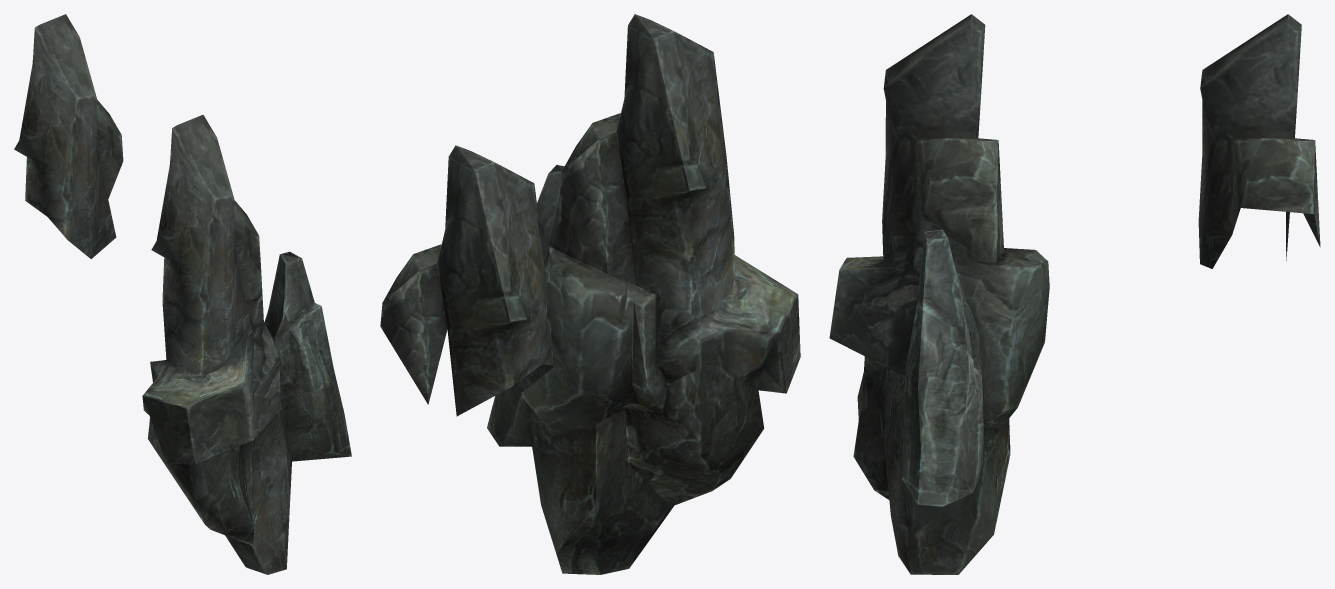
The model's file is deco_stone01.FBX.
3 views of the same model, side by side, from view 1: azimuth 30°, elevation 25°; view 2: azimuth 150°, elevation 25°; view 3: azimuth 270°, elevation 25° (orthographic). The views are drawn at different scales.
Parts seen in each view (by area): view 1: f_106_thing_04, f_106_thing_05; view 2: f_106_thing_04, f_106_thing_05; view 3: f_106_thing_04, f_106_thing_05.
Boxes of the visible parts, <box> form: f_106_thing_04: <box>142,114,351,574</box>; f_106_thing_05: <box>14,14,123,258</box>; f_106_thing_04: <box>487,14,800,574</box>; f_106_thing_05: <box>380,145,554,416</box>; f_106_thing_04: <box>829,14,1049,574</box>; f_106_thing_05: <box>1198,14,1320,268</box>.
Bounding box in the file's own units: 871 × 1765 × 1517.
Materials: 1 (1 with a texture image).
